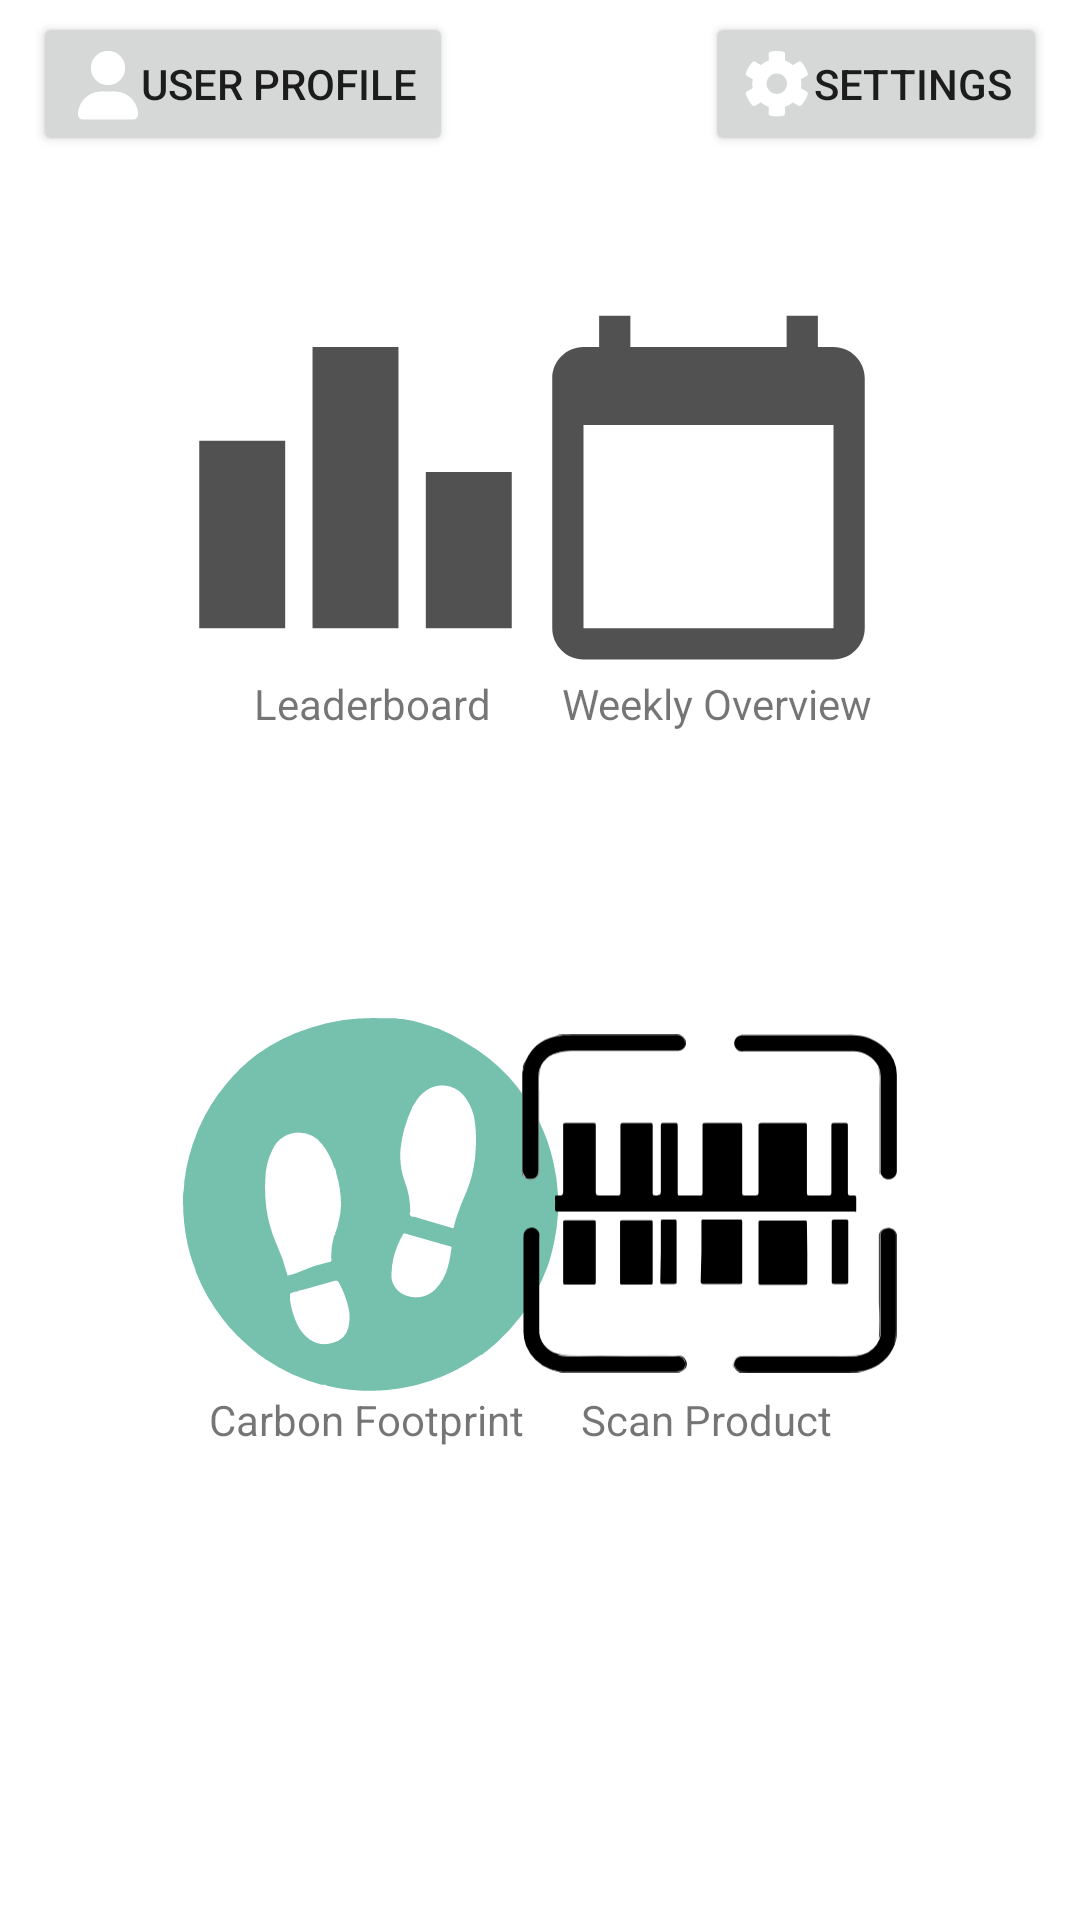

Named icons in this screenshot (1080 x 1920) and their centers, [x,y]:
calendar: [708,487]
